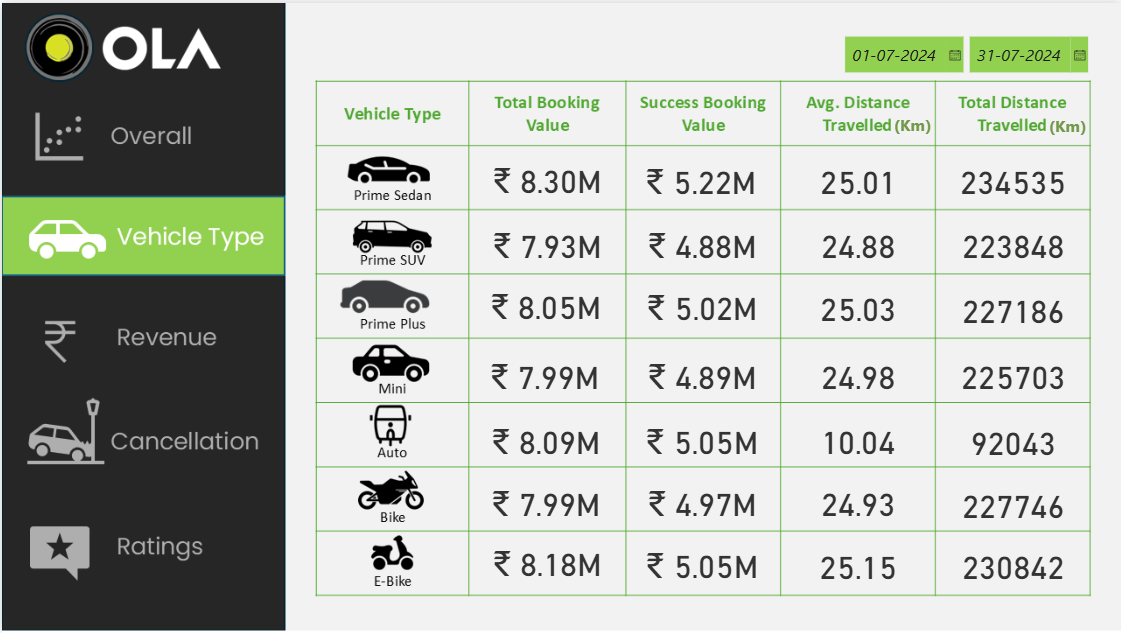

This screenshot's page, from the dashboard's own definition file:
{"tool":"powerbi","page":{"name":"Vehicle Type","canvas":[1280,720],"ordinal":1},"visuals":[{"type":"actionButton","box":[0,222.5,322.5,88.8],"z":0},{"type":"actionButton","box":[0,112.5,322.5,90],"z":1000},{"type":"actionButton","box":[0,345,322.5,88.8],"z":2000},{"type":"actionButton","box":[0,457.5,322.5,88.8],"z":3000},{"type":"actionButton","box":[0,580,322.5,88.8],"z":4000},{"type":"card","title":"Total Bookings","fields":{"Values":["Sum(Ola July Data.Booking_Value)"]},"box":[538.8,171.2,168.8,58.8],"z":5000},{"type":"card","title":"Total Bookings","fields":{"Values":["Sum(Ola July Data.Booking_Value)"]},"box":[538.8,245,168.8,58.8],"z":6000},{"type":"card","title":"Total Bookings","fields":{"Values":["Sum(Ola July Data.Booking_Value)"]},"box":[537.5,316.2,168.8,58.8],"z":7000},{"type":"card","title":"Total Bookings","fields":{"Values":["Sum(Ola July Data.Booking_Value)"]},"box":[536.2,395,168.8,58.8],"z":8000},{"type":"card","title":"Total Bookings","fields":{"Values":["Sum(Ola July Data.Booking_Value)"]},"box":[537.8,470,168.8,58.8],"z":9000},{"type":"card","title":"Total Bookings","fields":{"Values":["Sum(Ola July Data.Booking_Value)"]},"box":[536.5,541.2,168.8,58.8],"z":10000},{"type":"card","title":"Total Bookings","fields":{"Values":["Sum(Ola July Data.Booking_Value)"]},"box":[538.8,610,168.8,58.8],"z":11000},{"type":"card","title":"Total Bookings","fields":{"Values":["Sum(Ola July Data.Booking_Value)"]},"box":[713.8,172.5,168.8,58.8],"z":12000},{"type":"card","title":"Total Bookings","fields":{"Values":["Sum(Ola July Data.Booking_Value)"]},"box":[716.2,245,168.8,58.8],"z":13000},{"type":"card","title":"Total Bookings","fields":{"Values":["Sum(Ola July Data.Booking_Value)"]},"box":[716.2,317.5,168.8,58.8],"z":14000},{"type":"card","title":"Total Bookings","fields":{"Values":["Sum(Ola July Data.Booking_Value)"]},"box":[716.2,395,168.8,58.8],"z":15000},{"type":"card","title":"Total Bookings","fields":{"Values":["Sum(Ola July Data.Booking_Value)"]},"box":[716.2,470,168.8,58.8],"z":16000},{"type":"card","title":"Total Bookings","fields":{"Values":["Sum(Ola July Data.Booking_Value)"]},"box":[716.2,541.2,168.8,58.8],"z":17000},{"type":"card","title":"Total Bookings","fields":{"Values":["Sum(Ola July Data.Booking_Value)"]},"box":[716.2,611.2,168.8,58.8],"z":18000},{"type":"card","title":"Total Bookings","fields":{"Values":["Avg(Ola July Data.Ride_Distance)"]},"box":[893.8,172.5,168.8,58.8],"z":19000},{"type":"textbox","box":[1014,122,61.2,43.8],"z":20000},{"type":"textbox","box":[1191.2,122.5,61.2,43.8],"z":21000},{"type":"card","title":"Total Bookings","fields":{"Values":["Avg(Ola July Data.Ride_Distance)"]},"box":[893.8,245,168.8,58.8],"z":22000},{"type":"card","title":"Total Bookings","fields":{"Values":["Avg(Ola July Data.Ride_Distance)"]},"box":[893.8,318.8,168.8,58.8],"z":23000},{"type":"card","title":"Total Bookings","fields":{"Values":["Avg(Ola July Data.Ride_Distance)"]},"box":[893.8,395,168.8,58.8],"z":24000},{"type":"card","title":"Total Bookings","fields":{"Values":["Avg(Ola July Data.Ride_Distance)"]},"box":[893.8,470,168.8,58.8],"z":25000},{"type":"card","title":"Total Bookings","fields":{"Values":["Avg(Ola July Data.Ride_Distance)"]},"box":[893.8,541.2,168.8,58.8],"z":26000},{"type":"card","title":"Total Bookings","fields":{"Values":["Avg(Ola July Data.Ride_Distance)"]},"box":[893.8,612.5,168.8,58.8],"z":27000},{"type":"card","title":"Total Bookings","fields":{"Values":["Sum(Ola July Data.Ride_Distance)"]},"box":[1071.7,173.5,168.8,58.8],"z":28000},{"type":"card","title":"Total Bookings","fields":{"Values":["Sum(Ola July Data.Ride_Distance)"]},"box":[1071.7,246,168.8,58.8],"z":29000},{"type":"card","title":"Total Bookings","fields":{"Values":["Sum(Ola July Data.Ride_Distance)"]},"box":[1071.7,319.7,168.8,58.8],"z":30000},{"type":"card","title":"Total Bookings","fields":{"Values":["Sum(Ola July Data.Ride_Distance)"]},"box":[1071.7,396,168.8,58.8],"z":31000},{"type":"card","title":"Total Bookings","fields":{"Values":["Sum(Ola July Data.Ride_Distance)"]},"box":[1071.7,471,168.8,58.8],"z":32000},{"type":"card","title":"Total Bookings","fields":{"Values":["Sum(Ola July Data.Ride_Distance)"]},"box":[1071.7,542.2,168.8,58.8],"z":33000},{"type":"card","title":"Total Bookings","fields":{"Values":["Sum(Ola July Data.Ride_Distance)"]},"box":[1071.7,613.5,168.8,58.8],"z":34000},{"type":"slicer","title":"Date","fields":{"Values":["Ola July Data.Date"]},"box":[949.5,32.6,298,47.1],"z":35000}]}

Visuals, with their boxes in screenshot pixels (x1, y1, x2, y2), scaled from the page's 1280x720 canvas onto the 1121x633 screenshot:
actionButton: l=0, t=196, r=282, b=274
actionButton: l=0, t=99, r=282, b=178
actionButton: l=0, t=303, r=282, b=381
actionButton: l=0, t=402, r=282, b=480
actionButton: l=0, t=510, r=282, b=588
"Total Bookings" card: l=472, t=151, r=620, b=202
"Total Bookings" card: l=472, t=215, r=620, b=267
"Total Bookings" card: l=471, t=278, r=619, b=330
"Total Bookings" card: l=470, t=347, r=617, b=399
"Total Bookings" card: l=471, t=413, r=619, b=465
"Total Bookings" card: l=470, t=476, r=618, b=528
"Total Bookings" card: l=472, t=536, r=620, b=588
"Total Bookings" card: l=625, t=152, r=773, b=203
"Total Bookings" card: l=627, t=215, r=775, b=267
"Total Bookings" card: l=627, t=279, r=775, b=331
"Total Bookings" card: l=627, t=347, r=775, b=399
"Total Bookings" card: l=627, t=413, r=775, b=465
"Total Bookings" card: l=627, t=476, r=775, b=528
"Total Bookings" card: l=627, t=537, r=775, b=589
"Total Bookings" card: l=783, t=152, r=931, b=203
textbox: l=888, t=107, r=942, b=146
textbox: l=1043, t=108, r=1097, b=146
"Total Bookings" card: l=783, t=215, r=931, b=267
"Total Bookings" card: l=783, t=280, r=931, b=332
"Total Bookings" card: l=783, t=347, r=931, b=399
"Total Bookings" card: l=783, t=413, r=931, b=465
"Total Bookings" card: l=783, t=476, r=931, b=528
"Total Bookings" card: l=783, t=538, r=931, b=590
"Total Bookings" card: l=939, t=153, r=1086, b=204
"Total Bookings" card: l=939, t=216, r=1086, b=268
"Total Bookings" card: l=939, t=281, r=1086, b=333
"Total Bookings" card: l=939, t=348, r=1086, b=400
"Total Bookings" card: l=939, t=414, r=1086, b=466
"Total Bookings" card: l=939, t=477, r=1086, b=528
"Total Bookings" card: l=939, t=539, r=1086, b=591
"Date" slicer: l=832, t=29, r=1093, b=70
